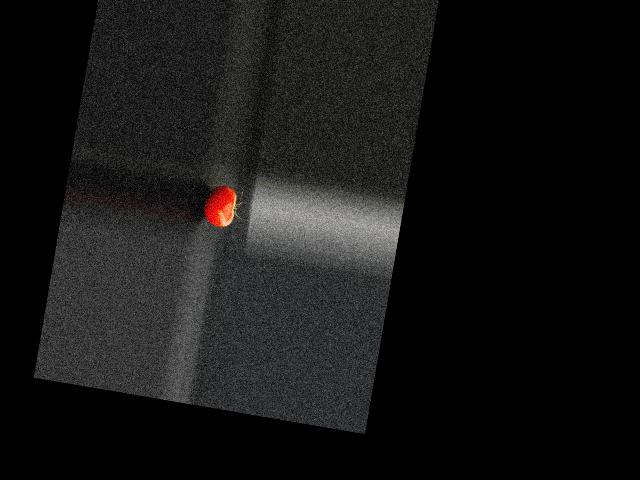tomato: (201, 183, 238, 229)
